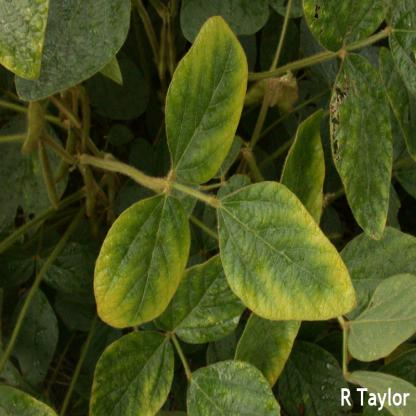Soybean leaf: (215, 179, 359, 324), (164, 14, 249, 185), (93, 191, 193, 329)
